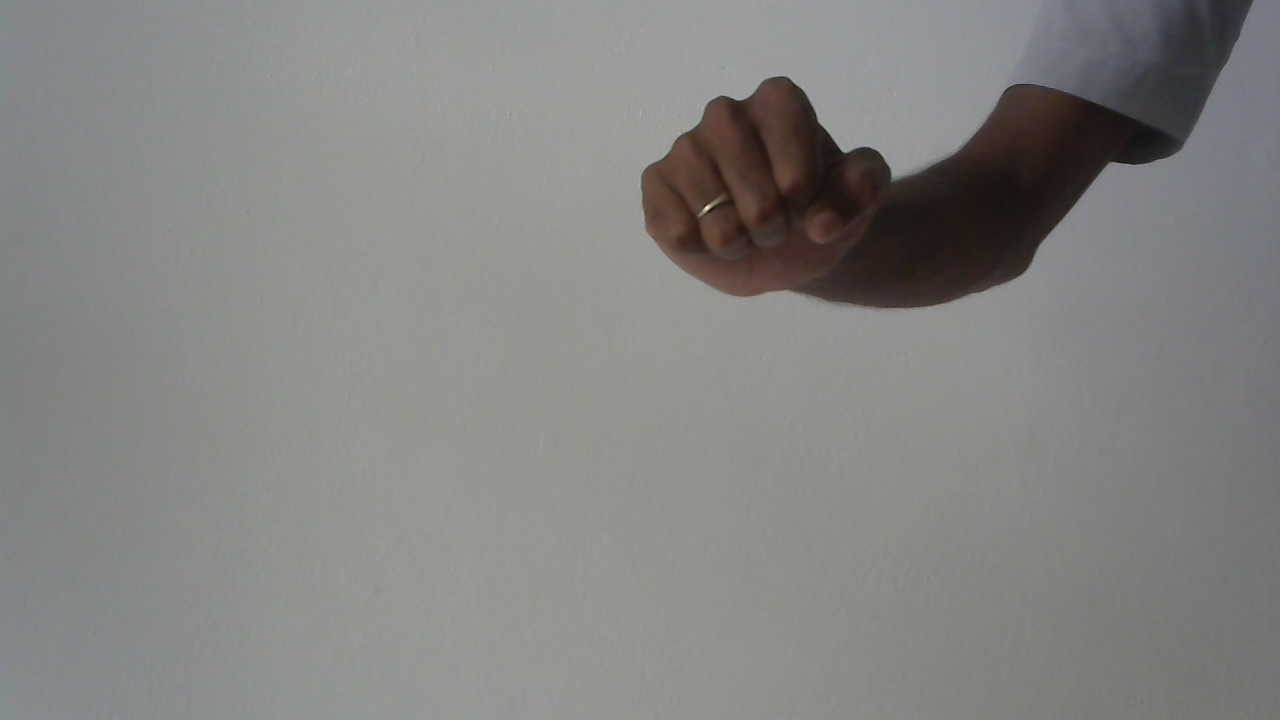yes: (622, 65, 905, 316)
